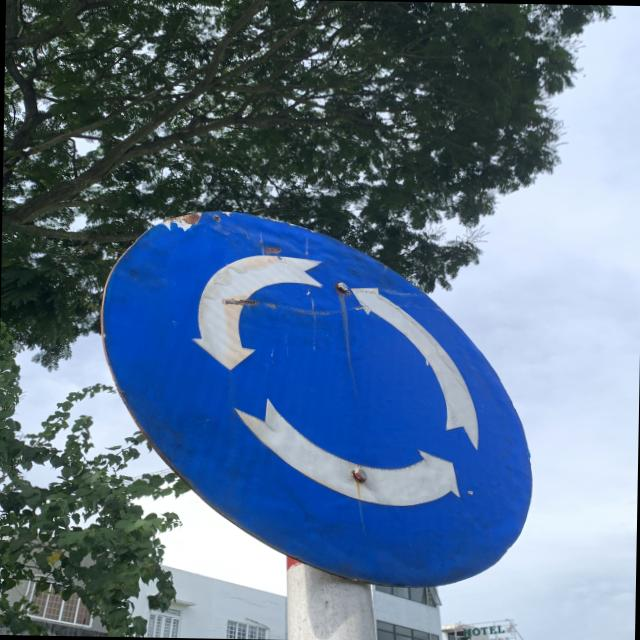Xe_Bus: (94, 208, 540, 586)
